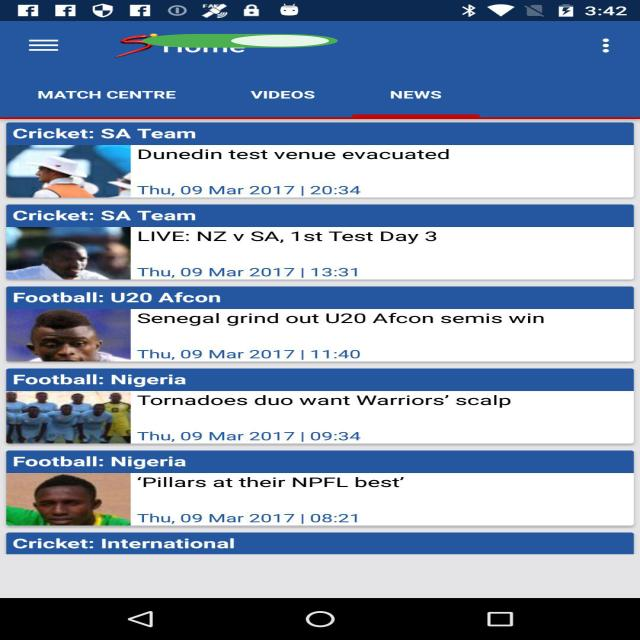social proof: (133, 29, 347, 54)
